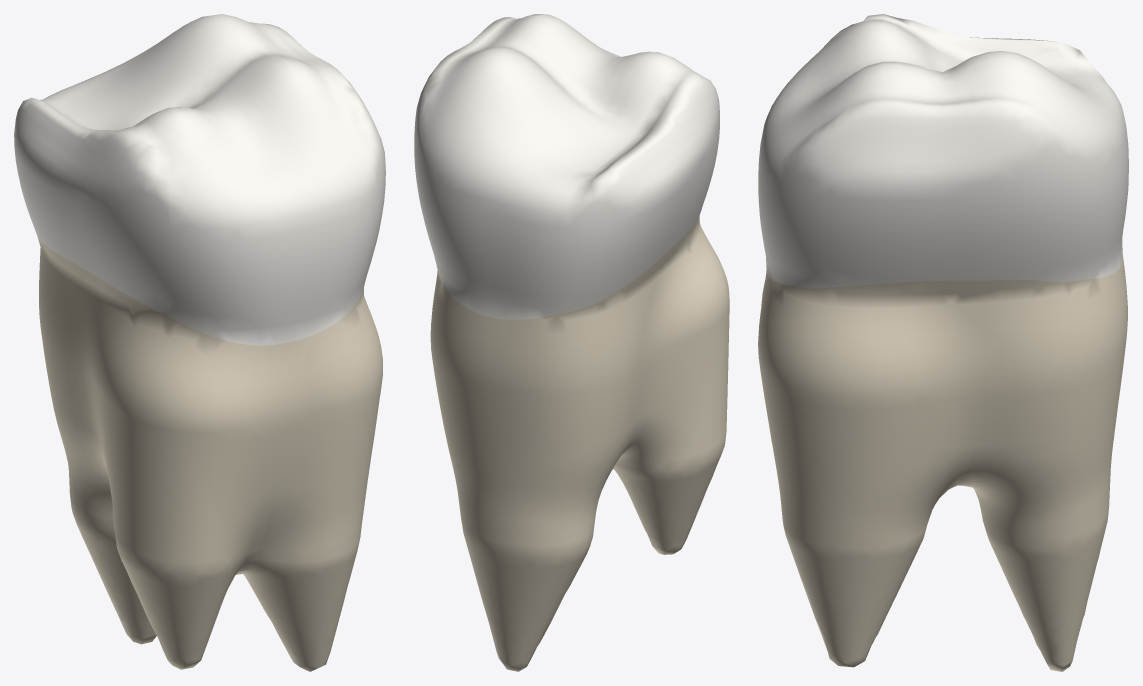
The picture shows the model from 3 angles, left to right: view 1: azimuth 30°, elevation 25°; view 2: azimuth 150°, elevation 25°; view 3: azimuth 270°, elevation 25°; orthographic projection. The views are drawn at different scales.
Parts seen in each view (by area): view 1: root, V, D, O, M, L; view 2: root, L, O, D, M; view 3: root, M, O, L, V, D.
Boxes of the visible parts, x1,y1,x2,y2 form: root: (38, 238, 382, 671); V: (168, 96, 383, 345); D: (14, 97, 172, 315); O: (63, 14, 336, 145); M: (262, 23, 385, 216); L: (40, 30, 176, 110); root: (430, 216, 729, 671); L: (416, 81, 598, 319); O: (440, 14, 693, 169); D: (591, 66, 719, 303); M: (414, 17, 515, 191); root: (758, 255, 1127, 671); M: (794, 91, 1077, 288); O: (841, 18, 1046, 105); L: (1043, 61, 1128, 282); V: (758, 32, 845, 288); D: (821, 14, 1088, 68).
Bounding box in the file's own units: 8.59 × 19 × 10.01.
